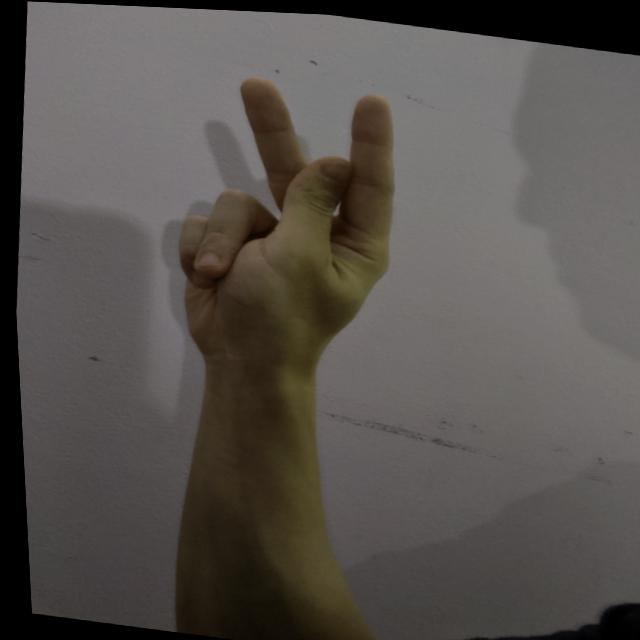K: (147, 54, 422, 384)
